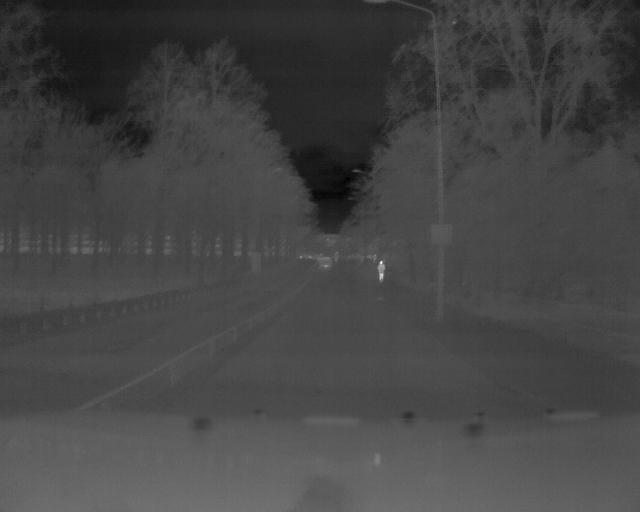car: (315, 253, 335, 273)
person: (375, 255, 385, 284)
